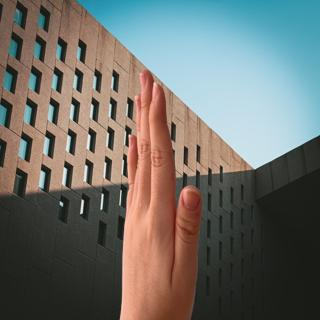Right: (115, 63, 211, 307)
